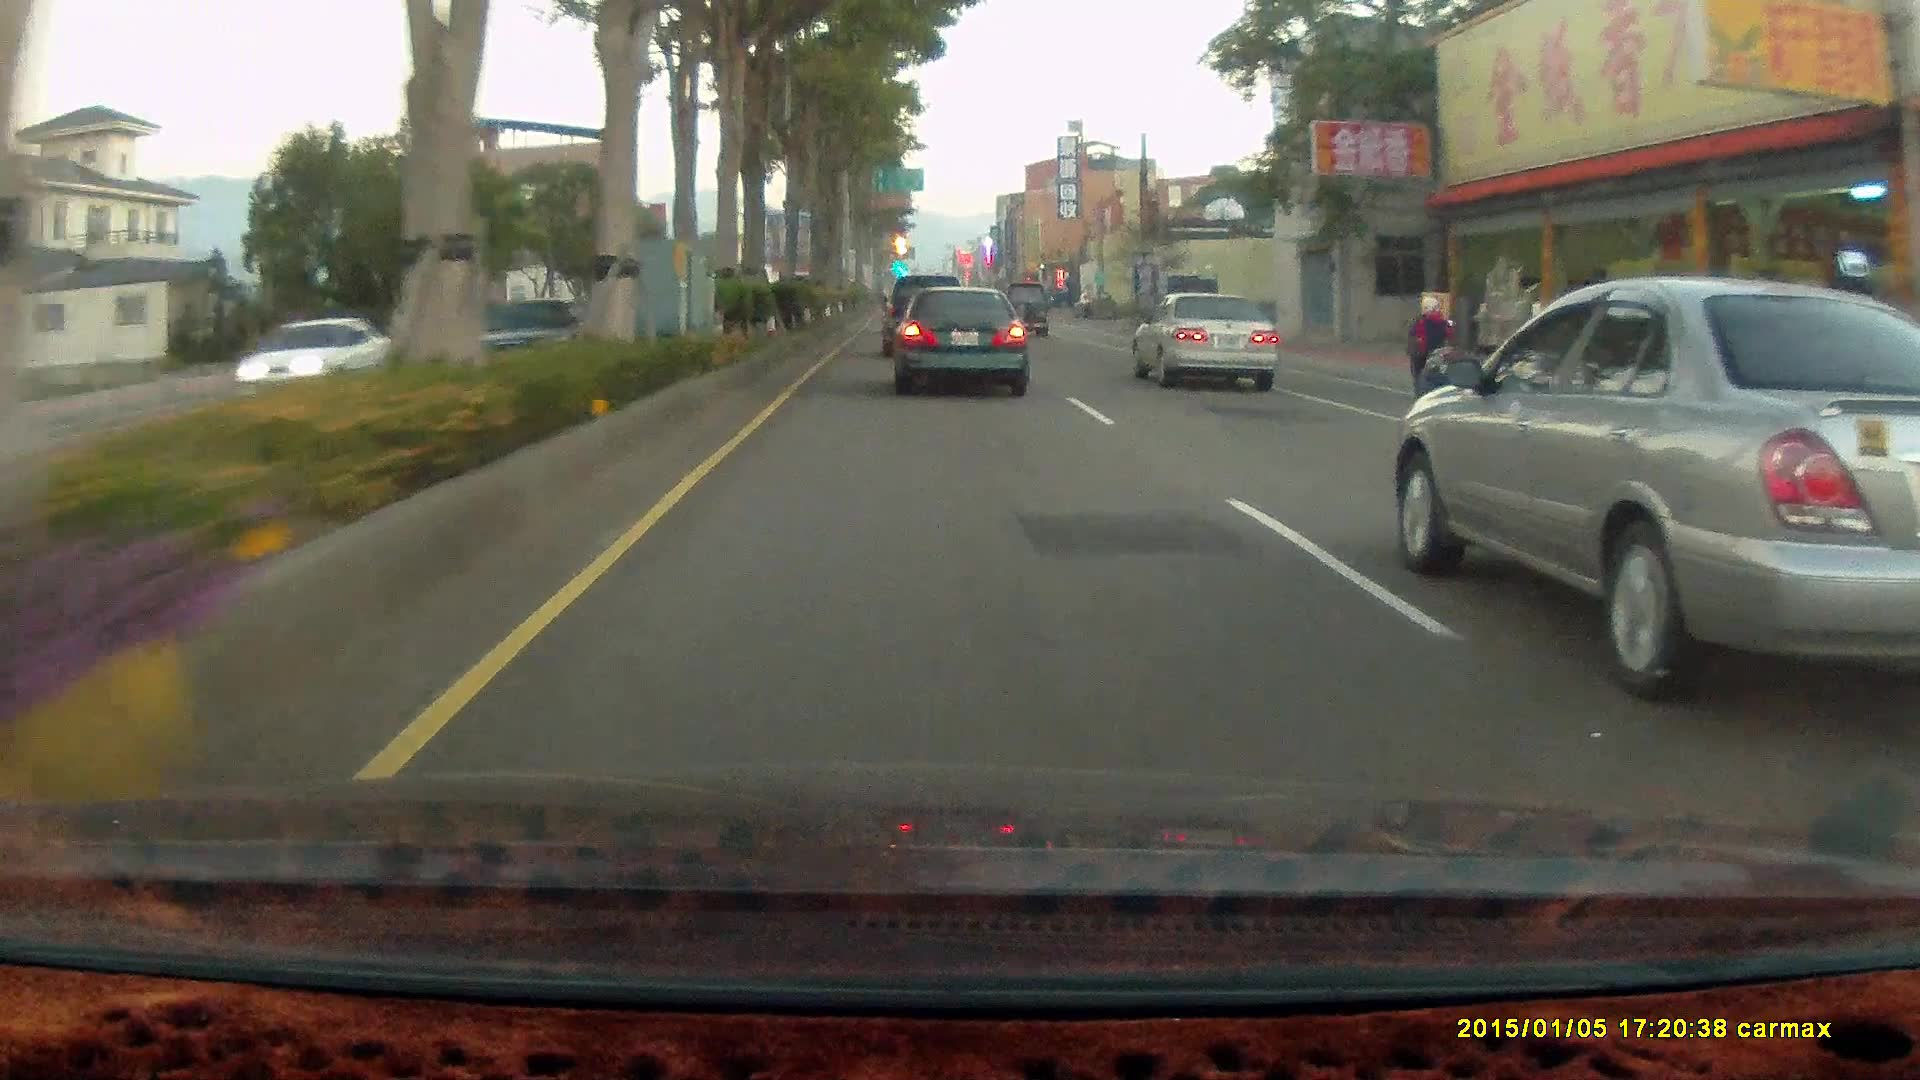rider: (1395, 288, 1472, 409), (1400, 293, 1462, 403)
vehicle: (1385, 289, 1920, 706), (890, 285, 1032, 401), (1136, 292, 1288, 396), (888, 284, 1028, 396), (1129, 291, 1277, 391), (229, 317, 396, 402), (228, 321, 402, 395), (471, 298, 607, 361), (883, 274, 973, 360), (881, 281, 963, 361), (1152, 277, 1220, 340), (1001, 279, 1049, 337)
